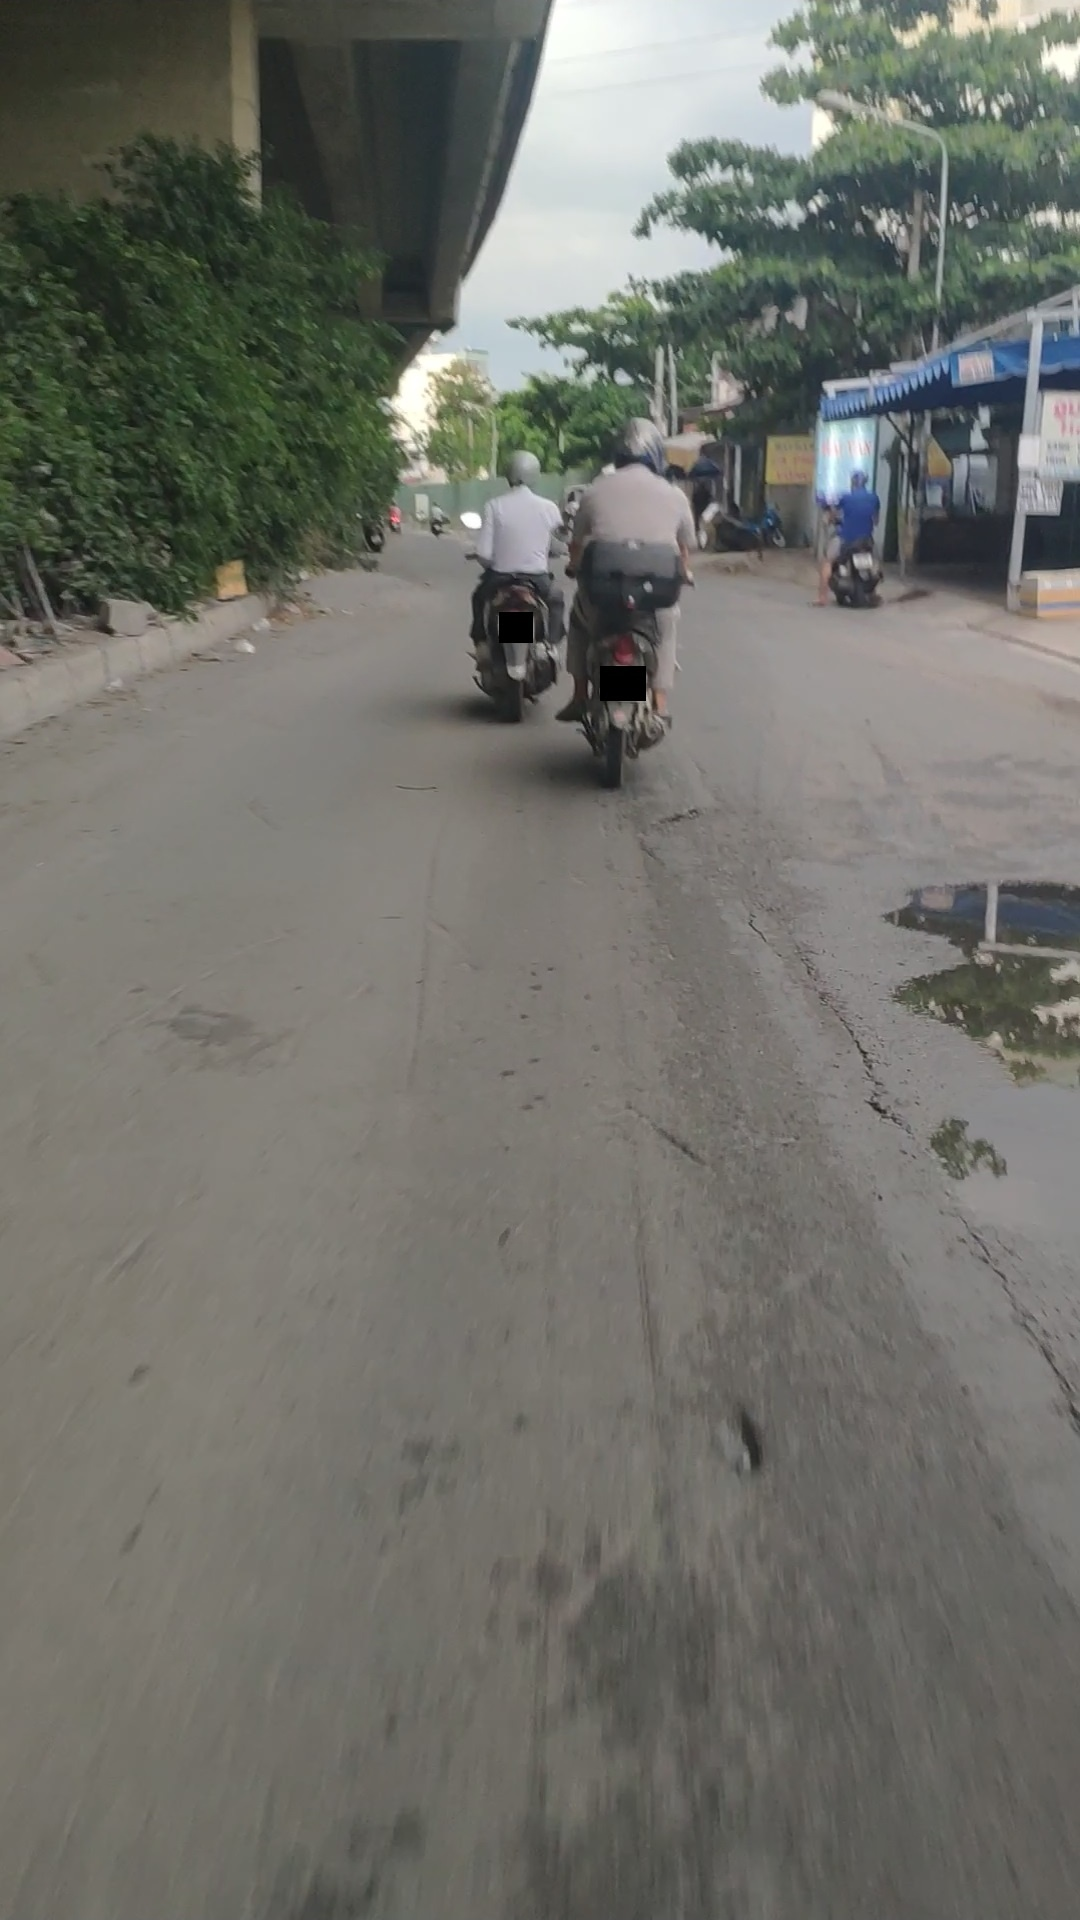hole: (870, 872, 1080, 1087), (638, 795, 799, 893), (705, 1398, 791, 1480)
